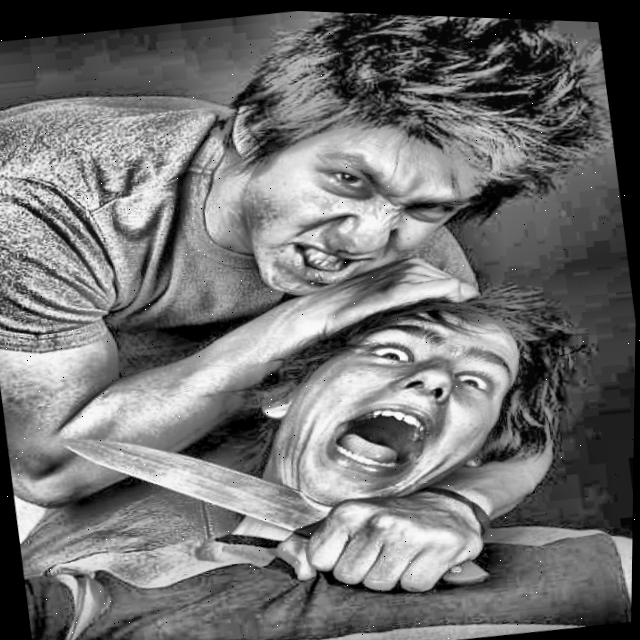pisau: (53, 413, 517, 596)
